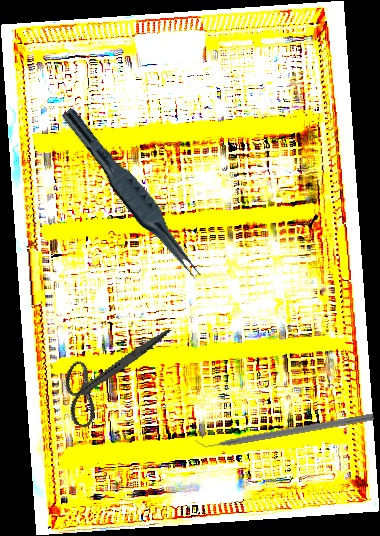Chopper: (193, 403, 375, 452)
Iris Scissors: (51, 301, 172, 445)
Tissue Forceps: (51, 106, 212, 284)
